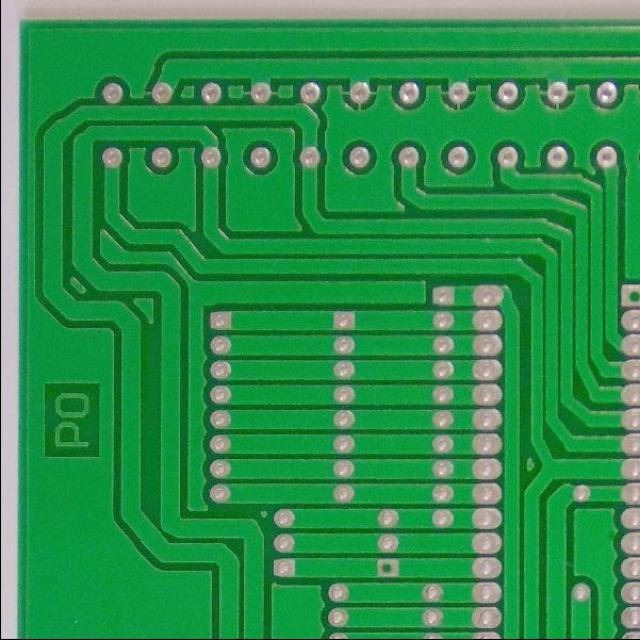missing_hole: (375, 557, 398, 582), (615, 285, 638, 309)
